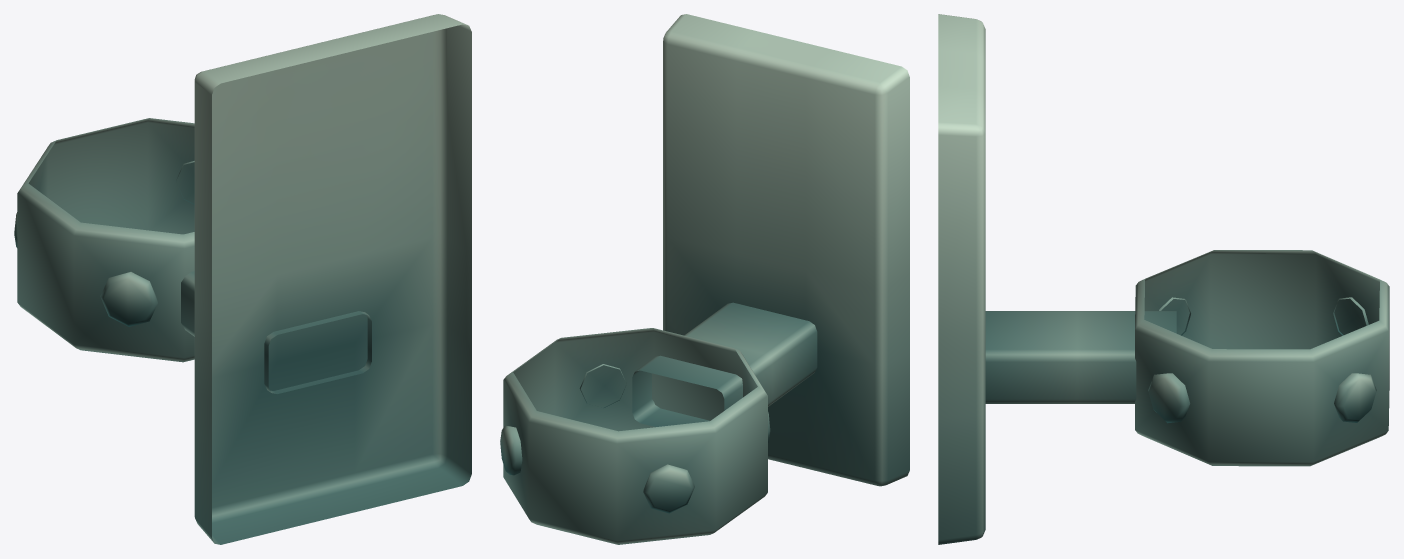
File: torchHolder.fbx
3 views of the same model, side by side, from view 1: azimuth 30°, elevation 25°; view 2: azimuth 150°, elevation 25°; view 3: azimuth 270°, elevation 25° (orthographic). The views are drawn at different scales.
Visible parts, largest first — view 1: SM_irontorch_003; view 2: SM_irontorch_003; view 3: SM_irontorch_003.
Part boxes in pixels (x1=…): SM_irontorch_003: x1=14, y1=14, x2=471, y2=544; SM_irontorch_003: x1=500, y1=14, x2=909, y2=544; SM_irontorch_003: x1=938, y1=14, x2=1389, y2=544.
Size of the model in its own units: 6.41 by 10.88 by 10.53.
